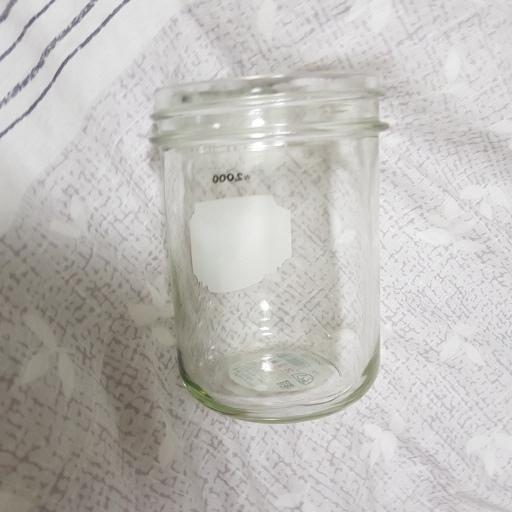Glass_5: (158, 80, 388, 416)
